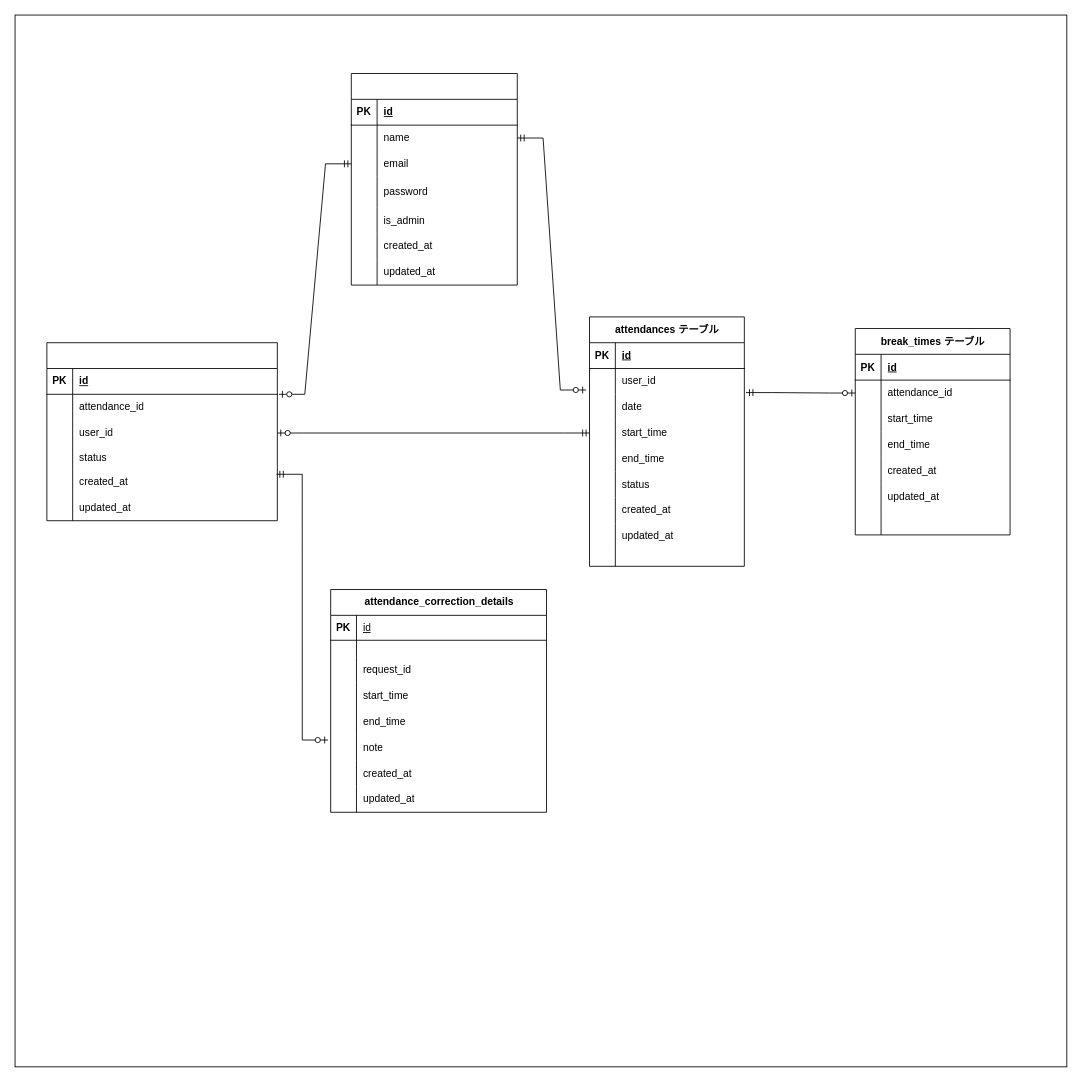
The diagram is 1082 pixels wide and 1082 high, and some of its shapes have lost their labels. The box of each missing label's shape, as (x1, y1, x2, y2) in pixels:
attendance_correction_requests: (46, 342, 277, 521)
users テーブル: (350, 73, 517, 285)
